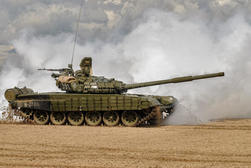t72: (6, 68, 226, 127)
